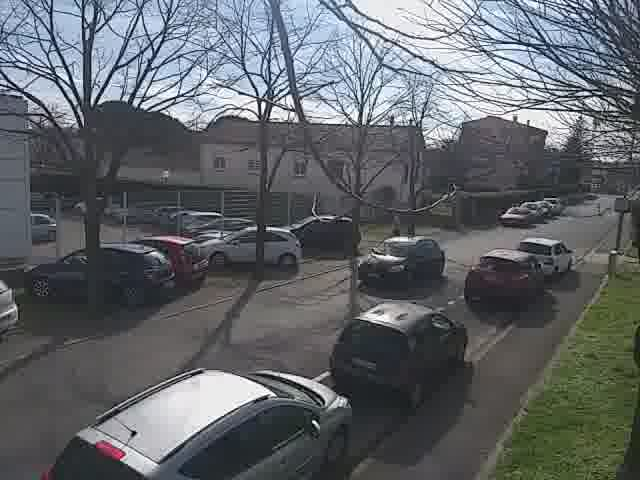persona: (386, 206, 407, 237)
